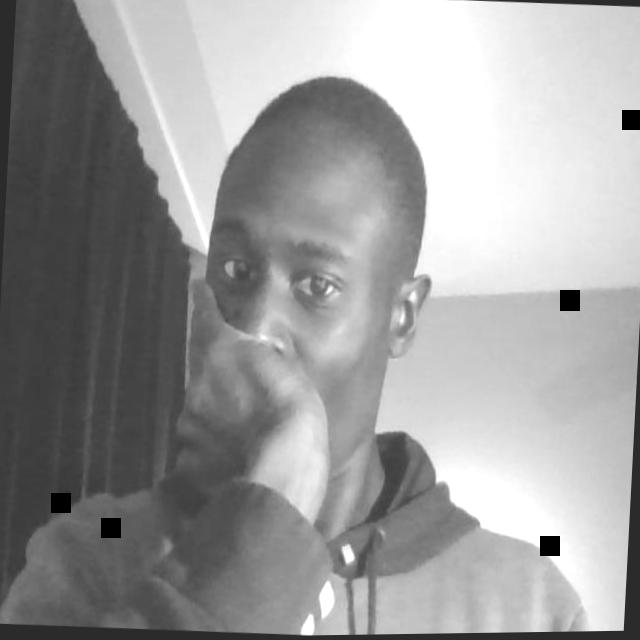NO-Mask: (196, 174, 403, 477)
